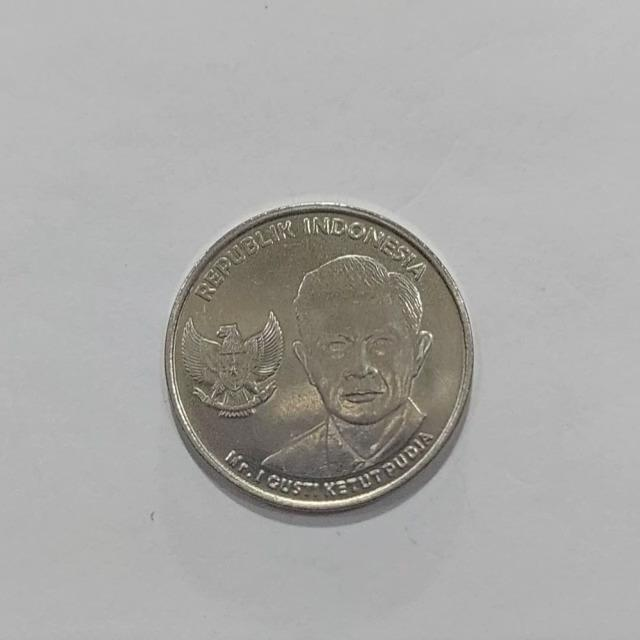Rp100: (163, 200, 475, 516), (255, 251, 436, 480)
